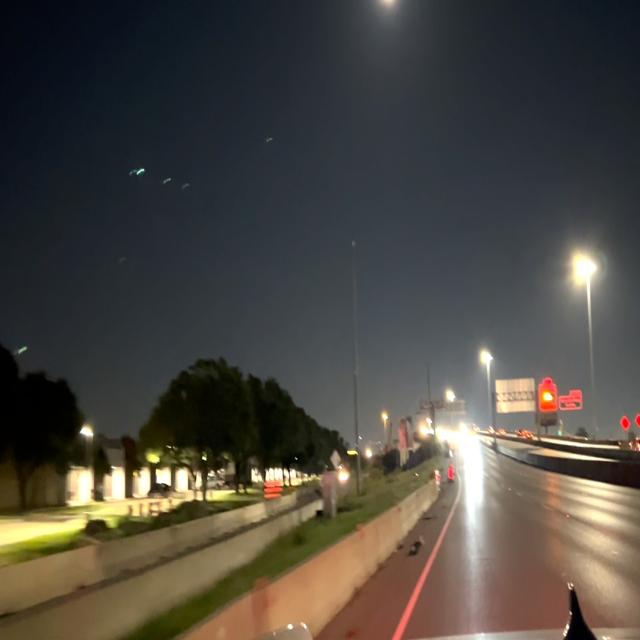back-of-sign: (495, 376, 537, 412), (398, 413, 415, 450), (443, 396, 469, 420)
